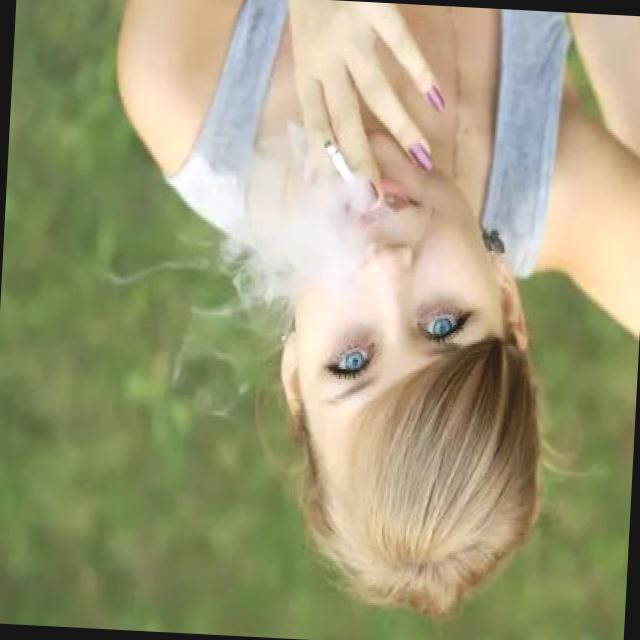cigarette: (322, 125, 374, 212)
